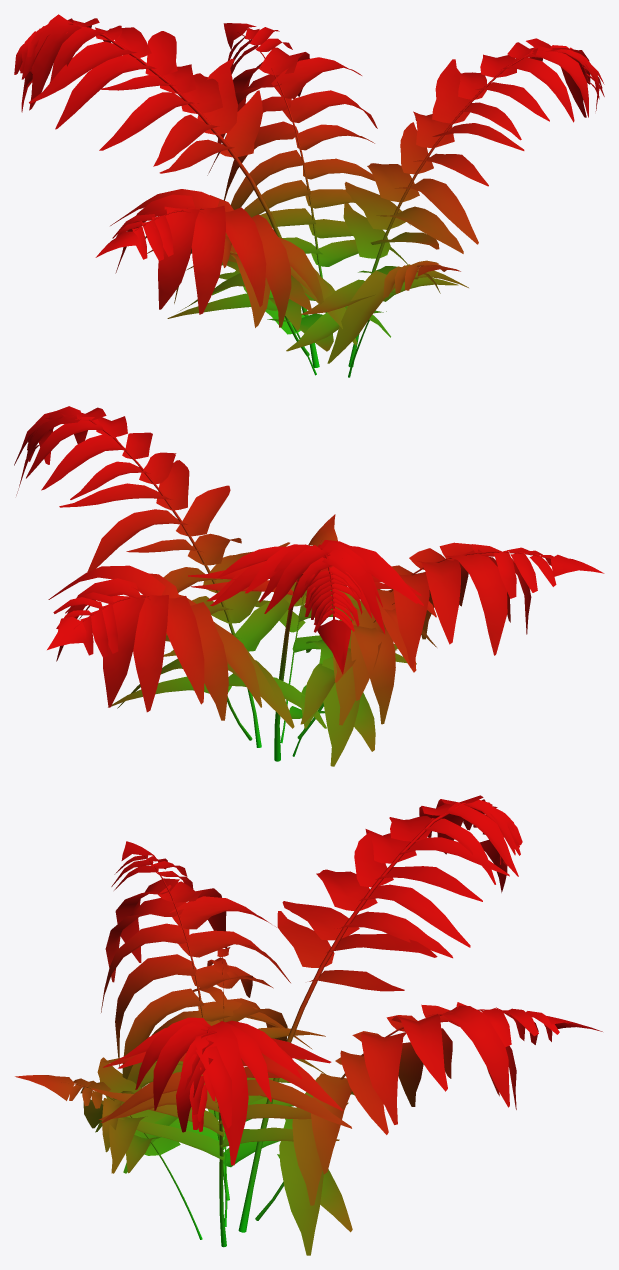
Rendered from Var4_LOD0.fbx.
The picture shows the model from 3 angles, top to bottom: view 1: azimuth 30°, elevation 25°; view 2: azimuth 150°, elevation 25°; view 3: azimuth 270°, elevation 25°; orthographic projection. The views are drawn at different scales.
Parts seen in each view (by area): view 1: _uo8r_Var4_LOD0; view 2: _uo8r_Var4_LOD0; view 3: _uo8r_Var4_LOD0.
Part boxes in pixels (x1,y1,x2,y2): _uo8r_Var4_LOD0: [14, 14, 604, 377]; _uo8r_Var4_LOD0: [14, 406, 604, 766]; _uo8r_Var4_LOD0: [15, 795, 602, 1255].
Size of the model in its own units: 34.81 by 19.19 by 29.26.
